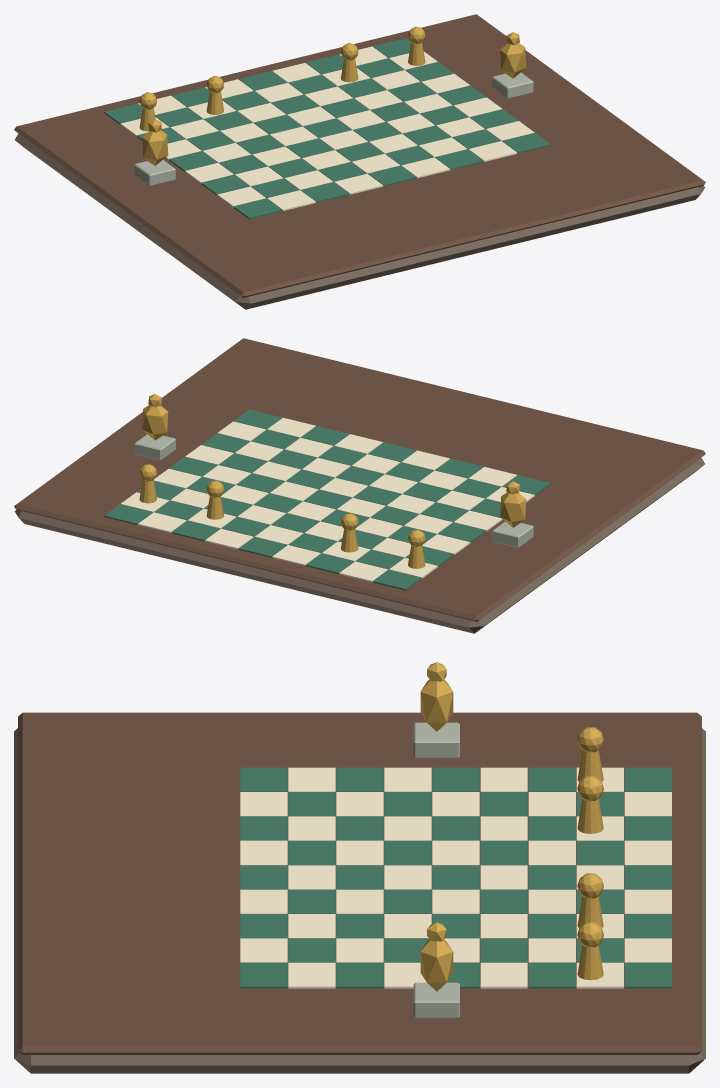
Rendered from world-boardgame.glb.
3 renders of one model, top to bottom at view 1: azimuth 30°, elevation 25°; view 2: azimuth 150°, elevation 25°; view 3: azimuth 270°, elevation 25°, orthographic. The views are drawn at different scales.
Parts seen in each view (by area): view 1: terrain-top, terrain-stratum, plinth.002, plinth.001, sculpture.002, sculpture.001, board-square, board-square.027, board-square.036, board-square.045, board-square.018, board-square.063 (+66 smaller); view 2: terrain-top, terrain-stratum, plinth.001, plinth.002, sculpture.001, sculpture.002, board-square.008, board-square.017, board-square.026, board-square.044, board-square.080, board-square.035 (+62 smaller); view 3: terrain-top, terrain-stratum, plinth.002, plinth.001, sculpture.001, sculpture.002, board-square.072, board-square.073, board-square.074, board-square.077, board-square.078, board-square.080 (+75 smaller).
Part boxes in pixels (x1,y1,x2,y2): terrain-top: [14, 14, 705, 297]; terrain-stratum: [15, 133, 705, 309]; plinth.002: [492, 72, 533, 98]; plinth.001: [134, 160, 175, 185]; sculpture.002: [500, 43, 526, 78]; sculpture.001: [142, 130, 168, 165]; board-square: [233, 198, 282, 219]; board-square.027: [334, 173, 383, 194]; board-square.036: [368, 165, 416, 186]; board-square.045: [401, 157, 450, 178]; board-square.018: [300, 182, 349, 202]; board-square.063: [468, 141, 517, 161]; terrain-top: [14, 338, 705, 621]; terrain-stratum: [14, 457, 704, 633]; plinth.001: [492, 521, 533, 547]; plinth.002: [134, 434, 175, 460]; sculpture.001: [500, 492, 526, 527]; sculpture.002: [142, 405, 168, 440]; board-square.008: [373, 569, 421, 590]; board-square.017: [339, 561, 388, 582]; board-square.026: [305, 553, 354, 574]; board-square.044: [238, 537, 287, 557]; board-square.080: [104, 504, 153, 524]; board-square.035: [272, 545, 320, 565]; terrain-top: [18, 712, 701, 1054]; terrain-stratum: [14, 728, 705, 1073]; plinth.002: [413, 982, 459, 1018]; plinth.001: [413, 722, 459, 758]; sculpture.001: [420, 679, 453, 731]; sculpture.002: [420, 939, 453, 991]; board-square.072: [240, 962, 287, 988]; board-square.073: [288, 962, 335, 988]; board-square.074: [336, 962, 383, 988]; board-square.077: [480, 962, 527, 988]; board-square.078: [528, 962, 575, 988]; board-square.080: [624, 962, 671, 988].
Bounding box in the file's own units: 21 × 3.39 × 18.
